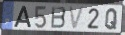2: (88, 7, 101, 30)
5: (34, 5, 48, 30)
A: (13, 5, 32, 28)
B: (50, 6, 67, 30)
Q: (104, 8, 119, 31)
V: (68, 6, 86, 31)
